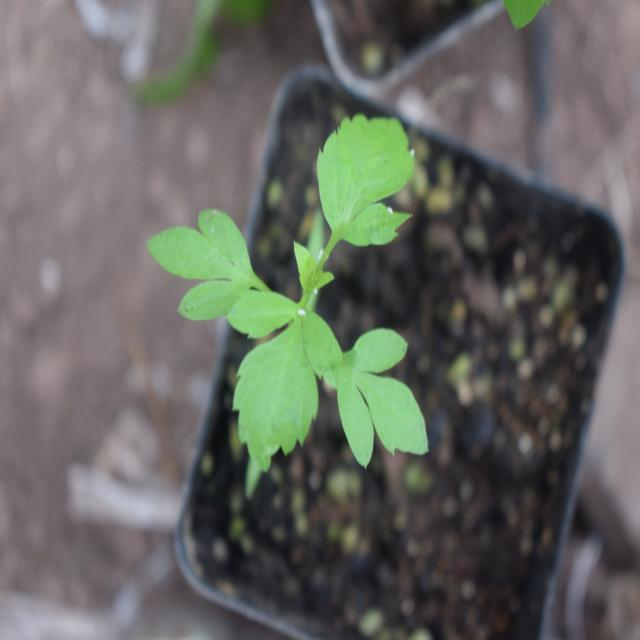Bidens pilosa: (132, 120, 452, 490)
